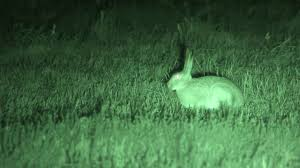rabbit: (148, 32, 264, 129)
